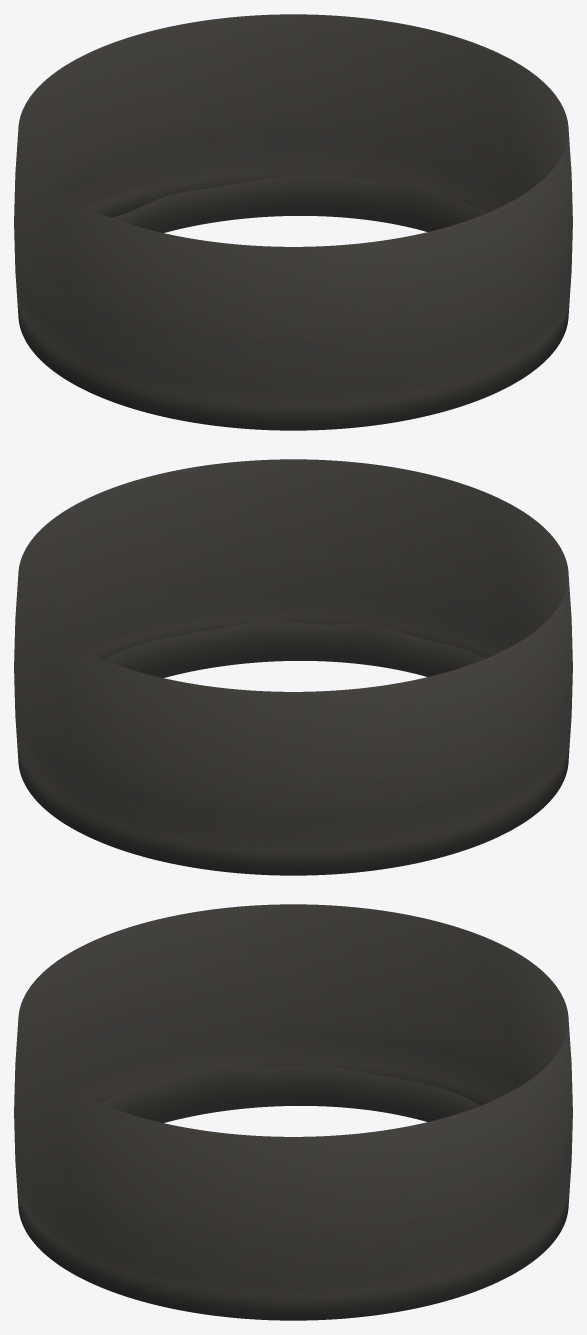
File: trestle-panorama.glb
3 views of the same model, one above another, from view 1: azimuth 30°, elevation 25°; view 2: azimuth 150°, elevation 25°; view 3: azimuth 270°, elevation 25° (orthographic).
Parts seen in each view (by area): view 1: TrestlePanorama; view 2: TrestlePanorama; view 3: TrestlePanorama.
Part boxes in pixels (x1,y1,x2,y2): TrestlePanorama: (14, 14, 572, 430); TrestlePanorama: (14, 459, 572, 875); TrestlePanorama: (14, 904, 572, 1320).
Bounding box in the file's own units: 386 × 140 × 386.
Materials: 1 (1 with a texture image).
